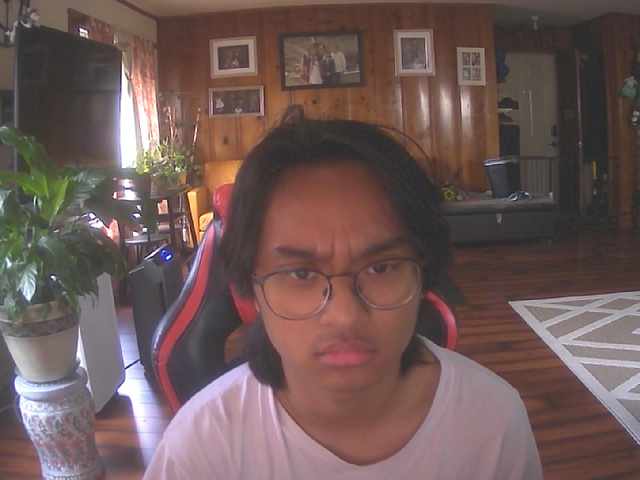anger: (238, 138, 440, 398)
